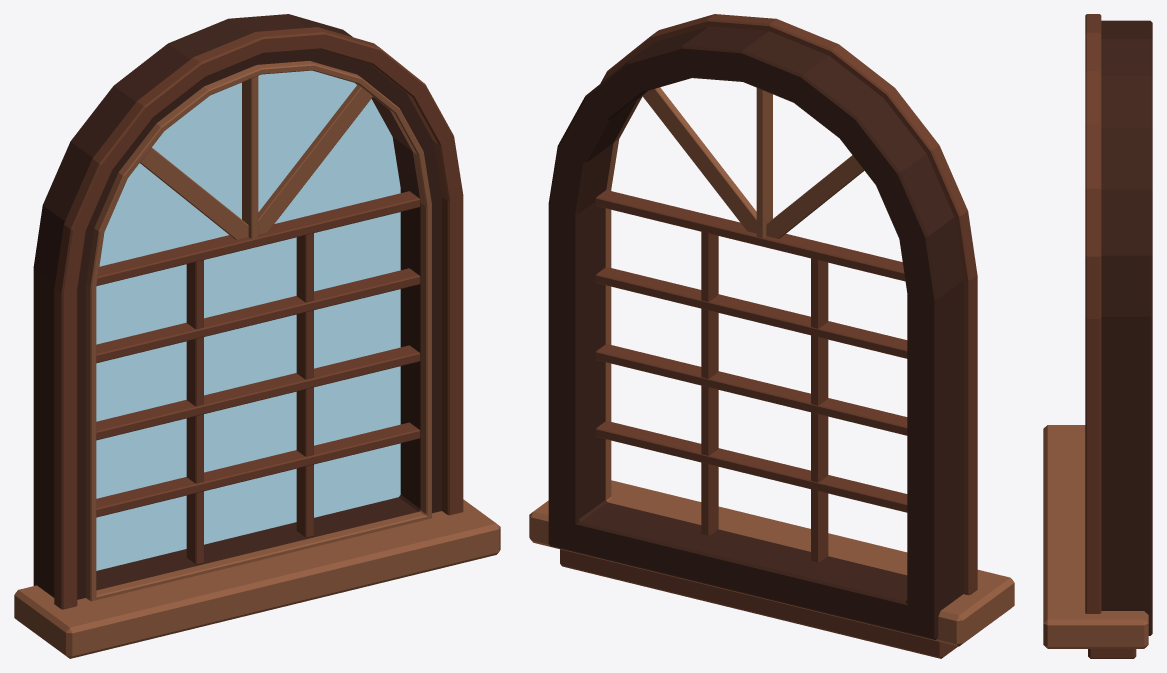
File: window_04.glb
3 renders of one model, left to right at view 1: azimuth 30°, elevation 25°; view 2: azimuth 150°, elevation 25°; view 3: azimuth 270°, elevation 25°, orthographic. The views are drawn at different scales.
Parts seen in each view (by area): view 1: Glass, Deep_frame, Raised_moulding, Sill, Inner_bead, Transom_1, Transom_2, Transom_3, Transom_4, Mullion_2, Mullion_1, Fan_ray_1 (+2 smaller); view 2: Deep_frame, Raised_moulding, Sill, Sill_apron, Transom_1, Transom_2, Transom_3, Transom_4, Mullion_2, Mullion_1, Inner_bead, Fan_ray_1 (+2 smaller); view 3: Deep_frame, Sill, Raised_moulding, Sill_apron.
Part boxes in pixels (box(x1,y1,x2,y2)): Glass: box(96, 70, 400, 570); Deep_frame: box(33, 14, 441, 599); Raised_moulding: box(54, 27, 463, 609); Sill: box(14, 499, 500, 658); Inner_bead: box(86, 60, 431, 601); Transom_1: box(96, 422, 420, 517); Transom_2: box(96, 345, 420, 440); Transom_3: box(96, 268, 420, 363); Transom_4: box(96, 191, 420, 285); Mullion_2: box(296, 233, 313, 537); Mullion_1: box(186, 260, 203, 564); Fan_ray_1: box(247, 84, 372, 235); Deep_frame: box(548, 26, 963, 639); Raised_moulding: box(600, 14, 977, 595); Sill: box(529, 480, 1014, 646); Sill_apron: box(560, 549, 957, 658); Transom_1: box(595, 420, 907, 512); Transom_2: box(595, 344, 907, 435); Transom_3: box(595, 267, 907, 358); Transom_4: box(595, 190, 905, 281); Mullion_2: box(701, 231, 718, 536); Mullion_1: box(811, 258, 828, 563); Inner_bead: box(605, 96, 907, 575); Fan_ray_1: box(642, 87, 767, 235); Deep_frame: box(1101, 20, 1152, 635); Sill: box(1043, 425, 1148, 648); Raised_moulding: box(1085, 14, 1101, 613); Sill_apron: box(1088, 649, 1136, 658).
Bounding box in the file's own units: 1.74 × 2.21 × 0.405.
